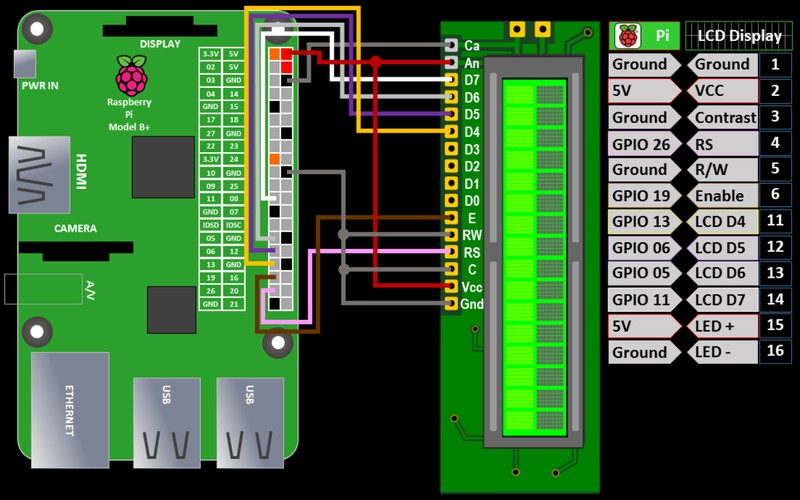LCD: (468, 44, 593, 464)
